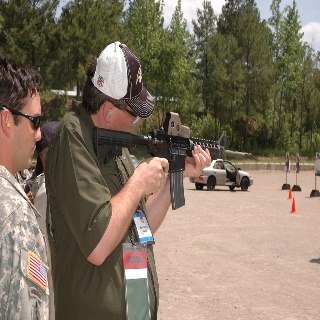rifle: (91, 110, 253, 211)
